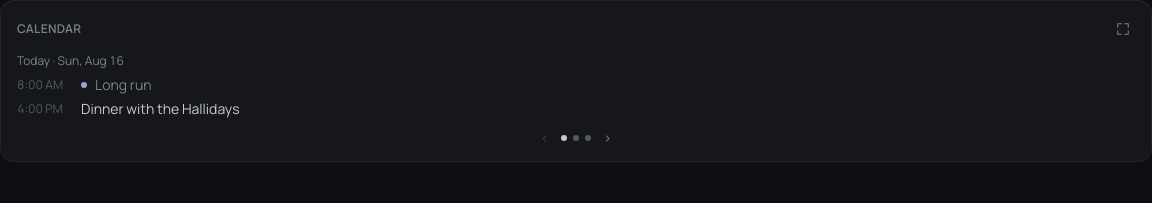
Test case: CalendarCard › fills Sunday's Tomorrow slide from next Monday, outside the week
expect the text "Today · Sun, Aug 16" is shown: met, box [17,52,124,69]
Click the button named "Next slide": (607, 138) [599,131,616,145]
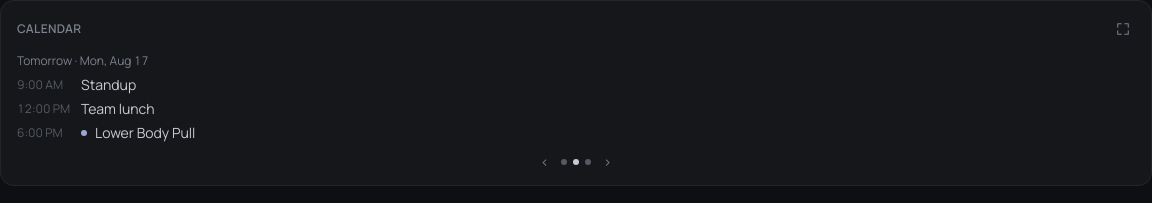
expect the text "Tomorrow · Mon, Aug 17" is shown: met, box [17,52,149,69]
expect the text "Team lunch" is shown: met, box [81,99,155,119]
expect the link "Lower Body Pull" is shown: met, box [95,123,195,143]
